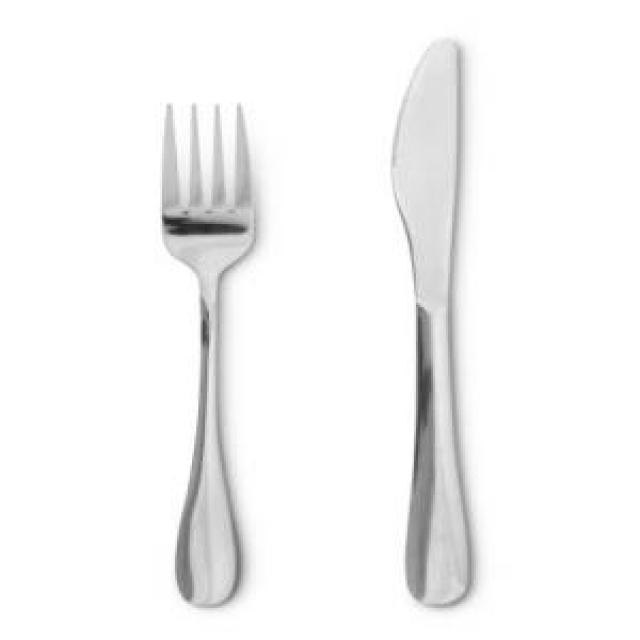knife: (378, 34, 517, 606)
